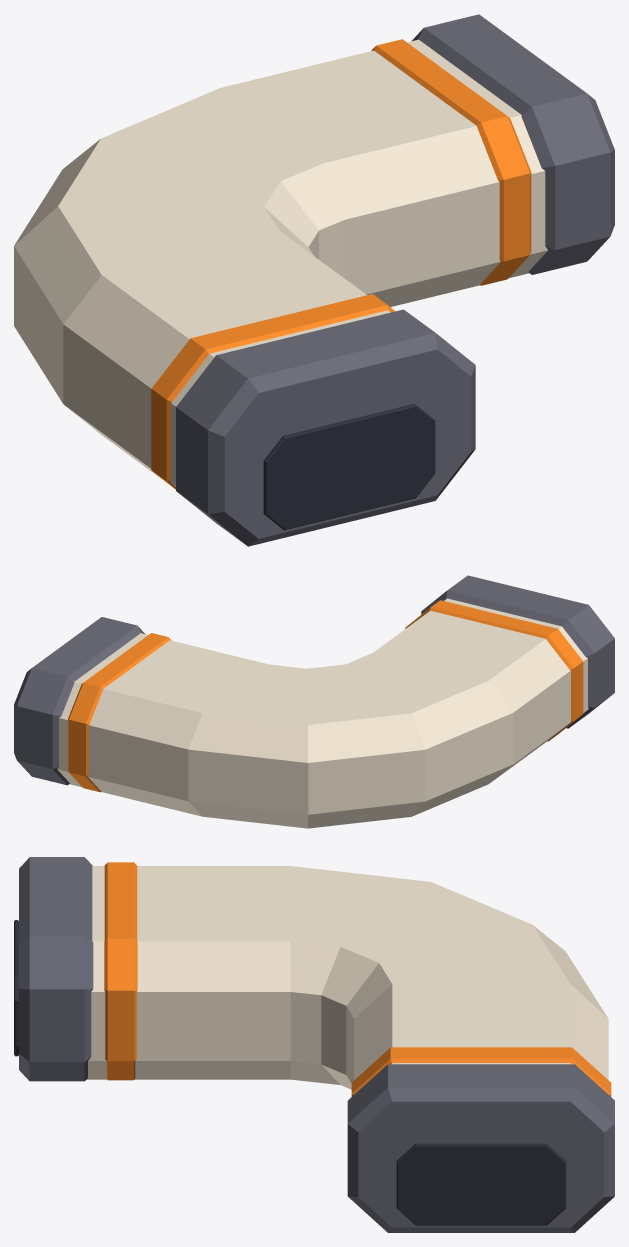
Rendered from asset.glb.
The picture shows the model from 3 angles, top to bottom: view 1: azimuth 30°, elevation 25°; view 2: azimuth 150°, elevation 25°; view 3: azimuth 270°, elevation 25°; orthographic projection. The views are drawn at different scales.
Parts seen in each view (by area): view 1: Ivory elbow cover, Thick slate end collar (×2), Orange fastening band (×2), Terminal inset; view 2: Ivory elbow cover, Thick slate end collar (×2), Orange fastening band (×2); view 3: Ivory elbow cover, Thick slate end collar (×2), Terminal inset (×2), Orange fastening band (×2).
Part boxes in pixels (x1,y1,x2,y2): Ivory elbow cover: [14, 39, 547, 486]; Thick slate end collar (×2): [176, 14, 614, 546]; Orange fastening band (×2): [151, 39, 531, 489]; Terminal inset: [263, 404, 435, 530]; Ivory elbow cover: [57, 598, 588, 828]; Thick slate end collar (×2): [14, 575, 614, 785]; Orange fastening band (×2): [68, 600, 583, 792]; Ivory elbow cover: [87, 866, 608, 1089]; Thick slate end collar (×2): [19, 857, 614, 1232]; Terminal inset (×2): [14, 920, 566, 1225]; Orange fastening band (×2): [104, 862, 611, 1096].
Size of the model in its own units: 1.42 by 0.378 by 1.42.
